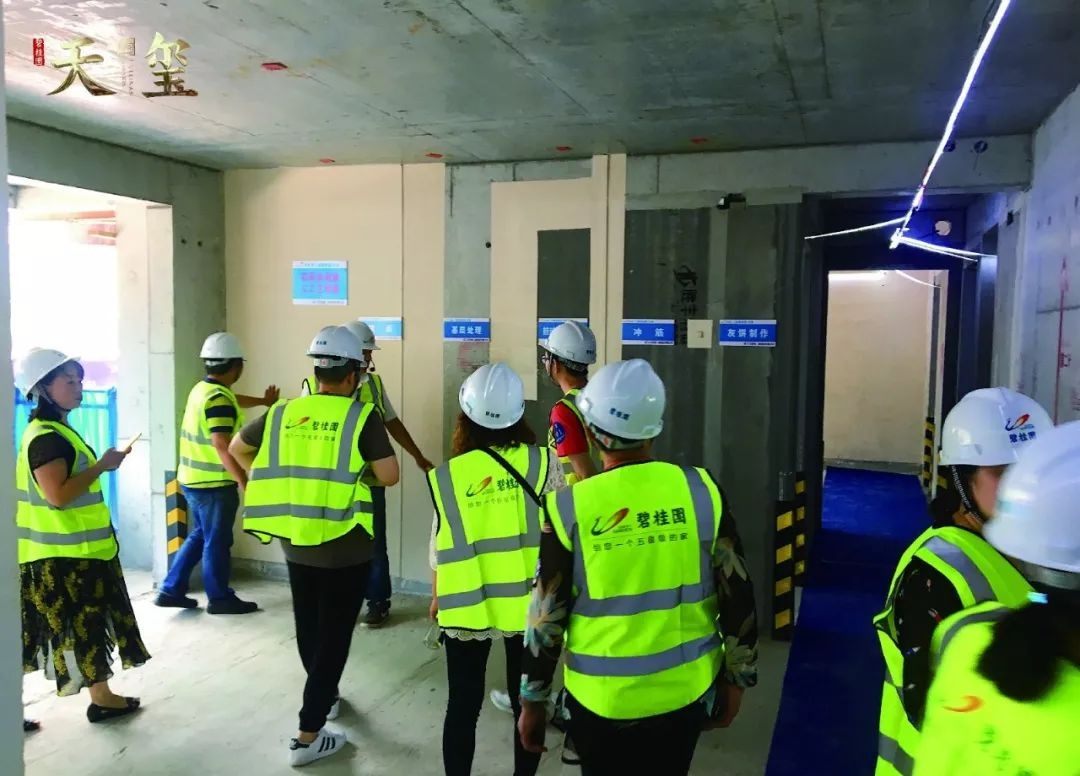white: (935, 381, 1059, 521), (570, 356, 674, 463), (9, 334, 86, 424), (453, 362, 530, 452), (301, 324, 368, 393), (534, 317, 601, 386), (189, 325, 252, 390)
